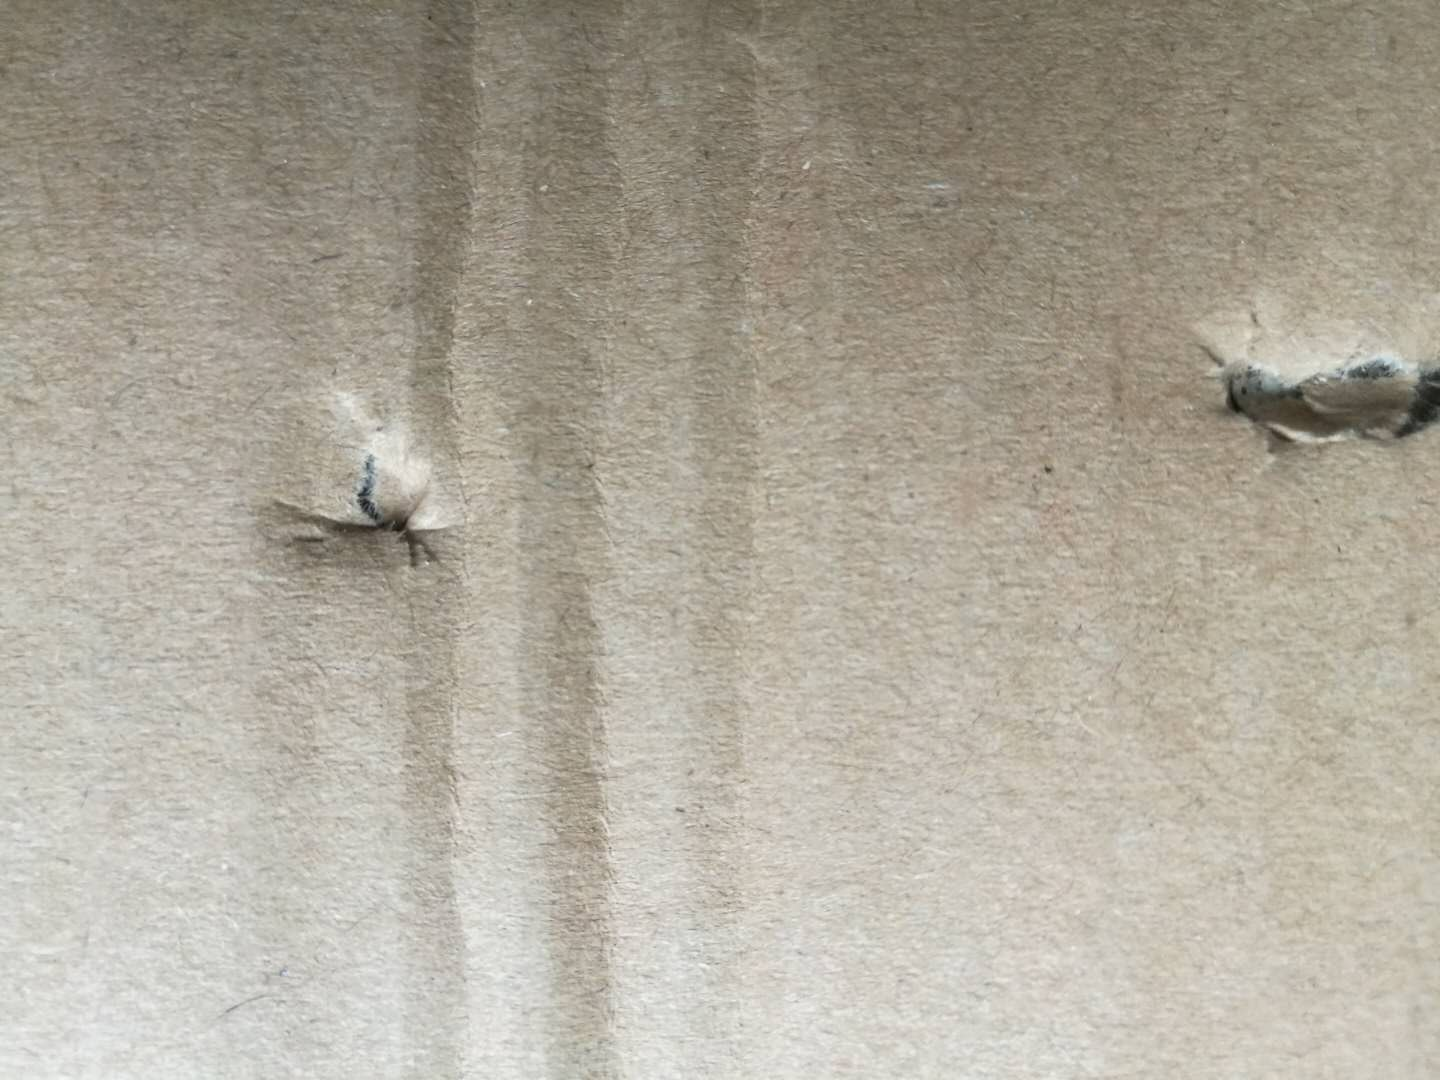defect: (370, 1, 831, 1080), (239, 361, 480, 608), (1159, 279, 1440, 484)
